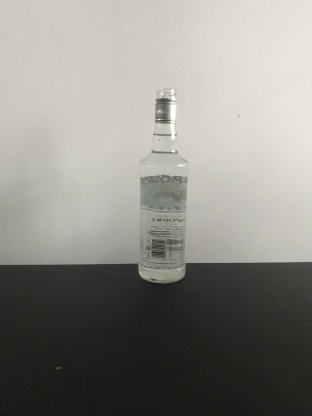nakretka: (153, 85, 178, 125)
